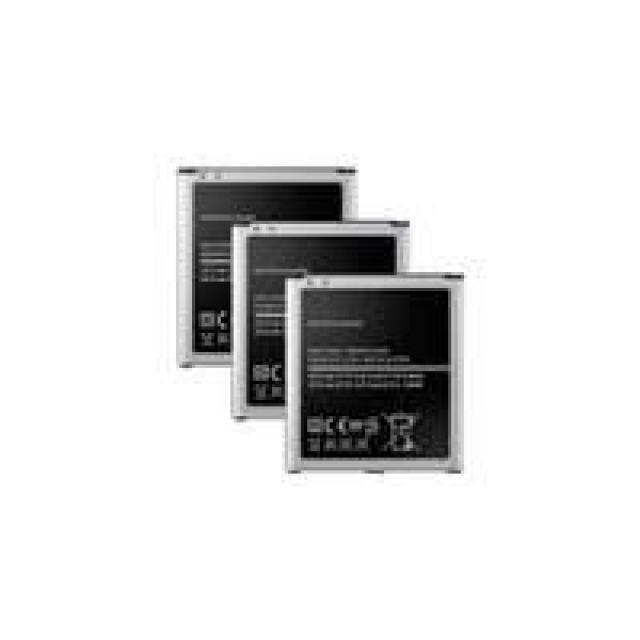non-organic waste: (167, 162, 360, 369), (284, 273, 466, 478), (230, 216, 409, 424)
